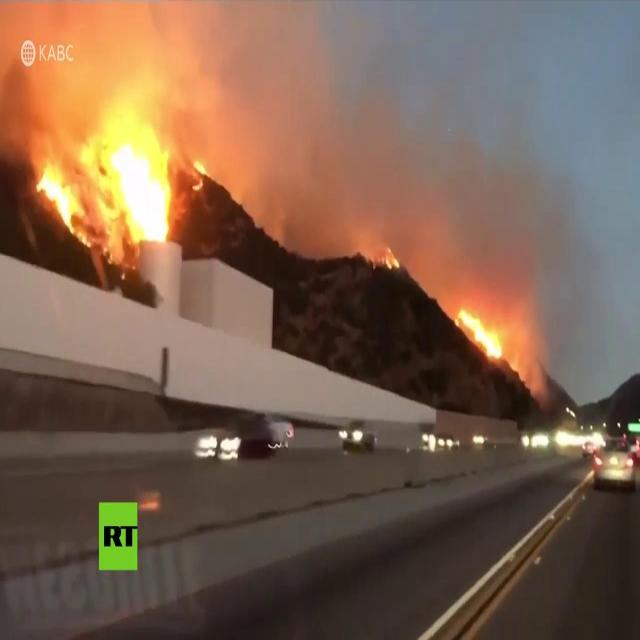Fire: (39, 128, 173, 252), (457, 310, 503, 361), (192, 157, 206, 191), (386, 252, 400, 273)
